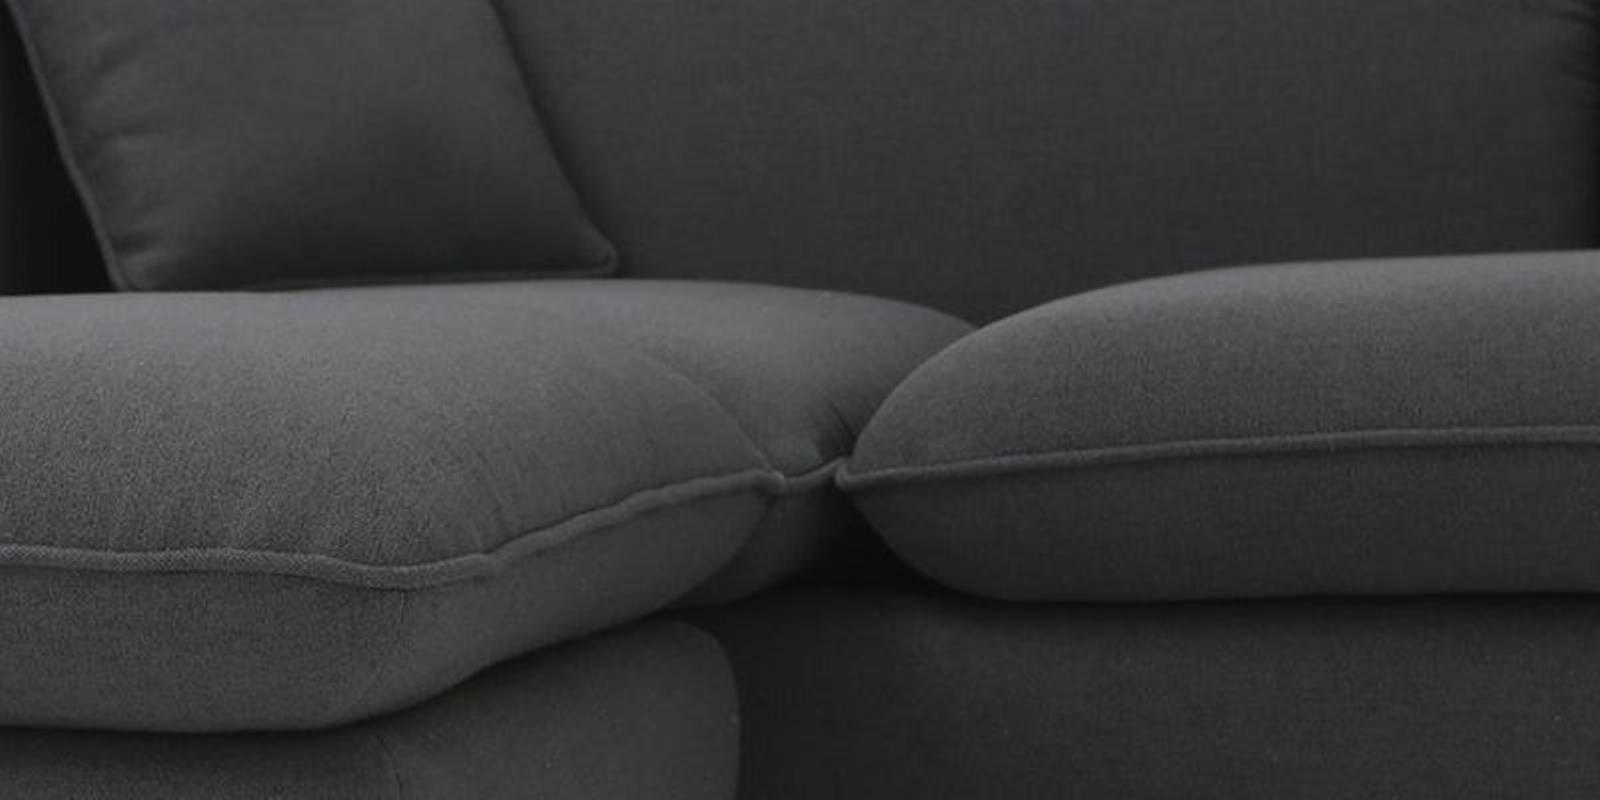Gloria Three Seater Sofa with Ottoman in Grey Colour by CasaCraft: (3, 13, 1600, 770)
